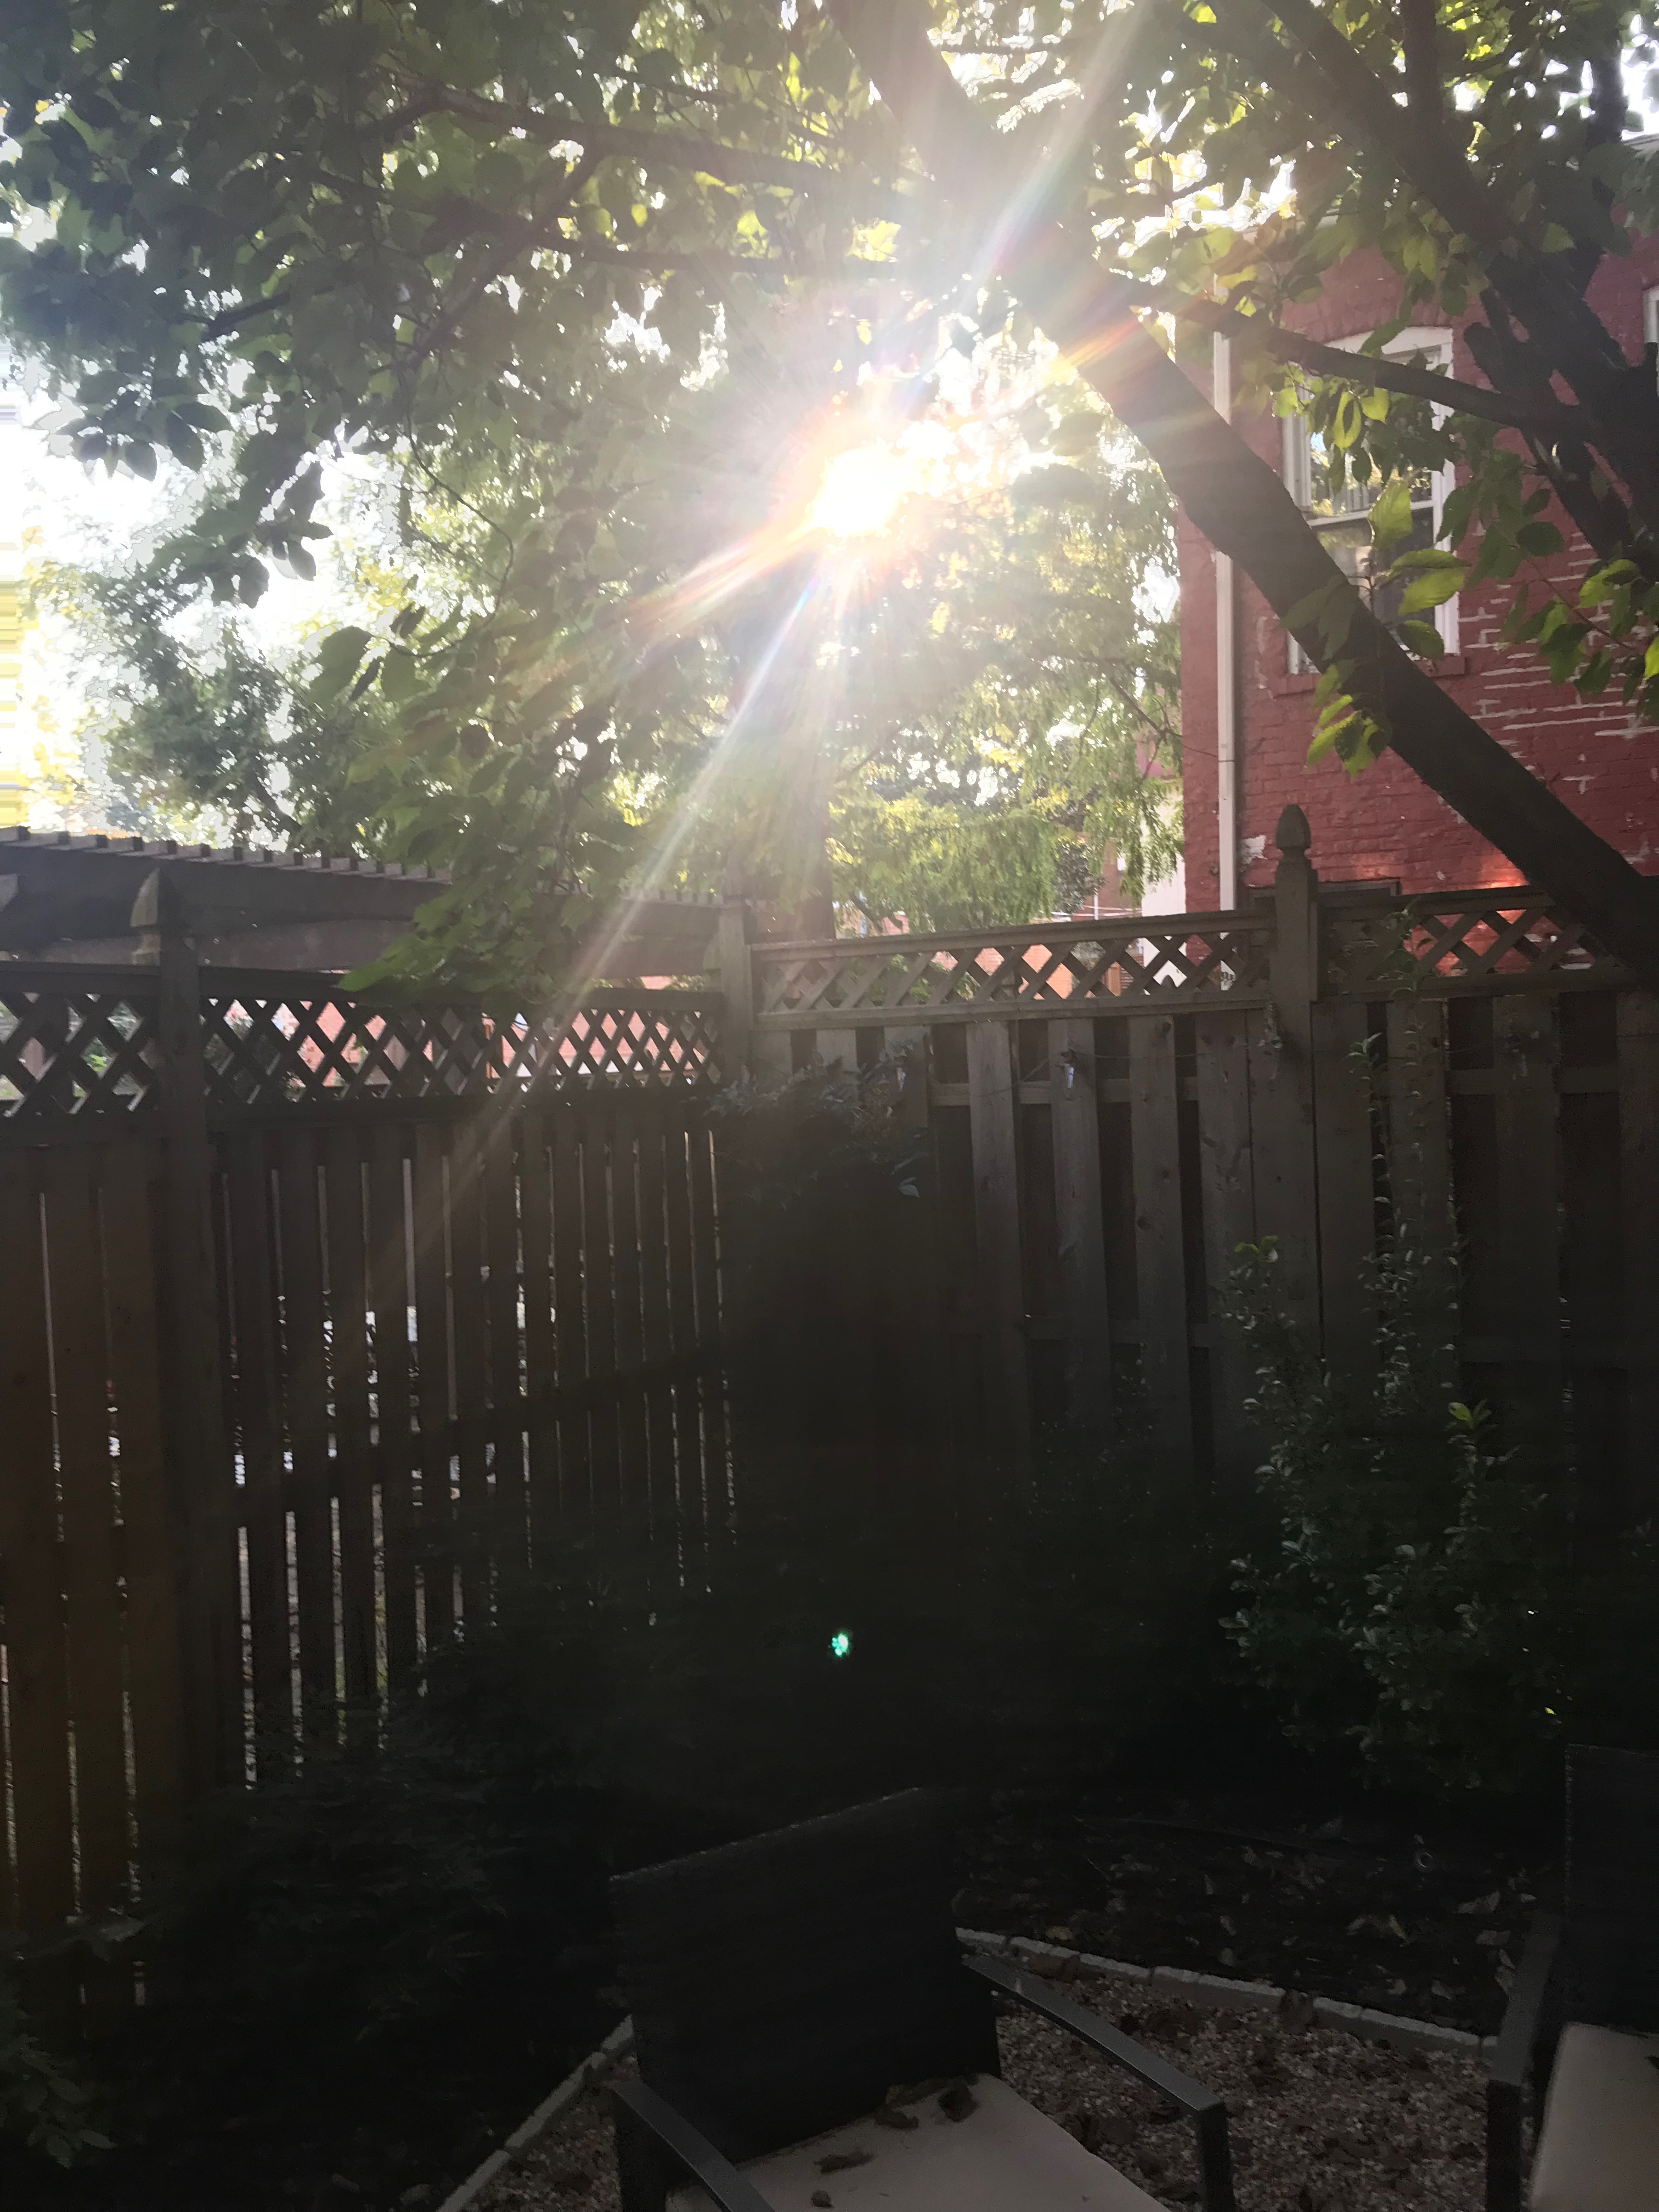flare: (826, 1629, 854, 1660)
